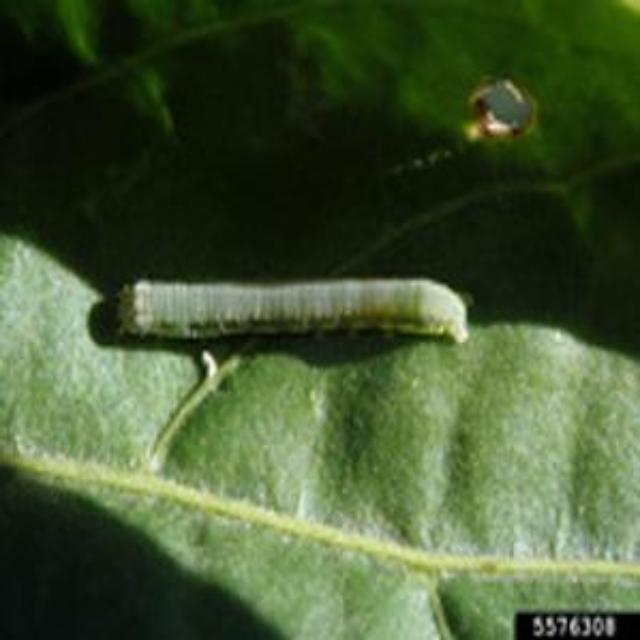Beet armyworm: (100, 215, 502, 418)
